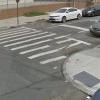Crosswalk: (2, 23, 75, 68)
